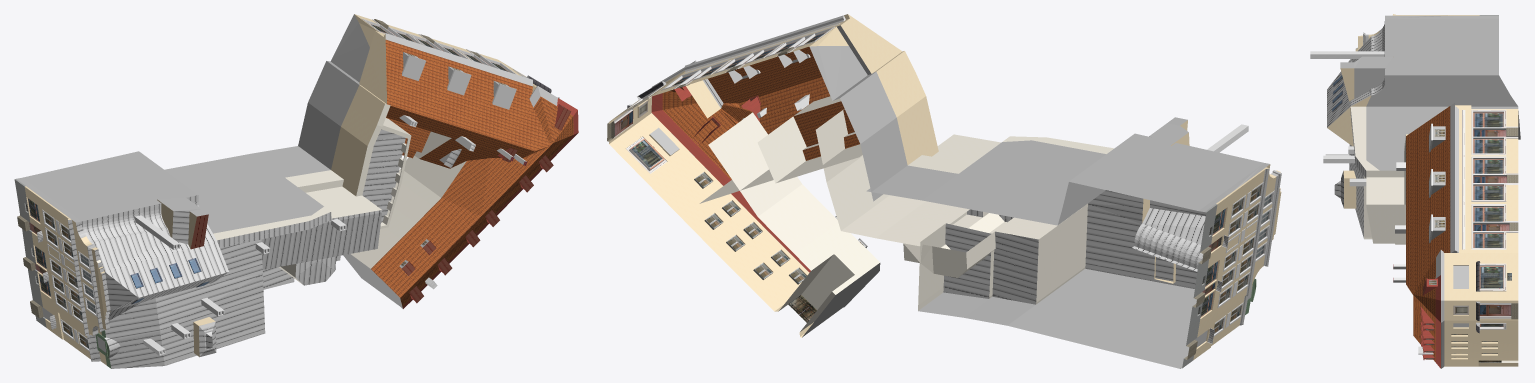
Rendered from Suur-Karja_13.obj.
3 renders of one model, left to right at view 1: azimuth 30°, elevation 25°; view 2: azimuth 150°, elevation 25°; view 3: azimuth 270°, elevation 25°, orthographic. The views are drawn at different scales.
Visible parts, largest first — view 1: suurkarja13, xxx; view 2: suurkarja13, xxx; view 3: suurkarja13, xxx.
Part boxes in pixels (left/top/right/bottom): suurkarja13: left=14, top=14, right=578, bottom=368; xxx: left=16, top=14, right=402, bottom=307; suurkarja13: left=607, top=14, right=1281, bottom=368; xxx: left=802, top=25, right=1269, bottom=368; suurkarja13: left=1310, top=14, right=1518, bottom=368; xxx: left=1340, top=15, right=1520, bottom=170.
Bounding box in the file's own units: 69.09 × 33.63 × 24.54.
